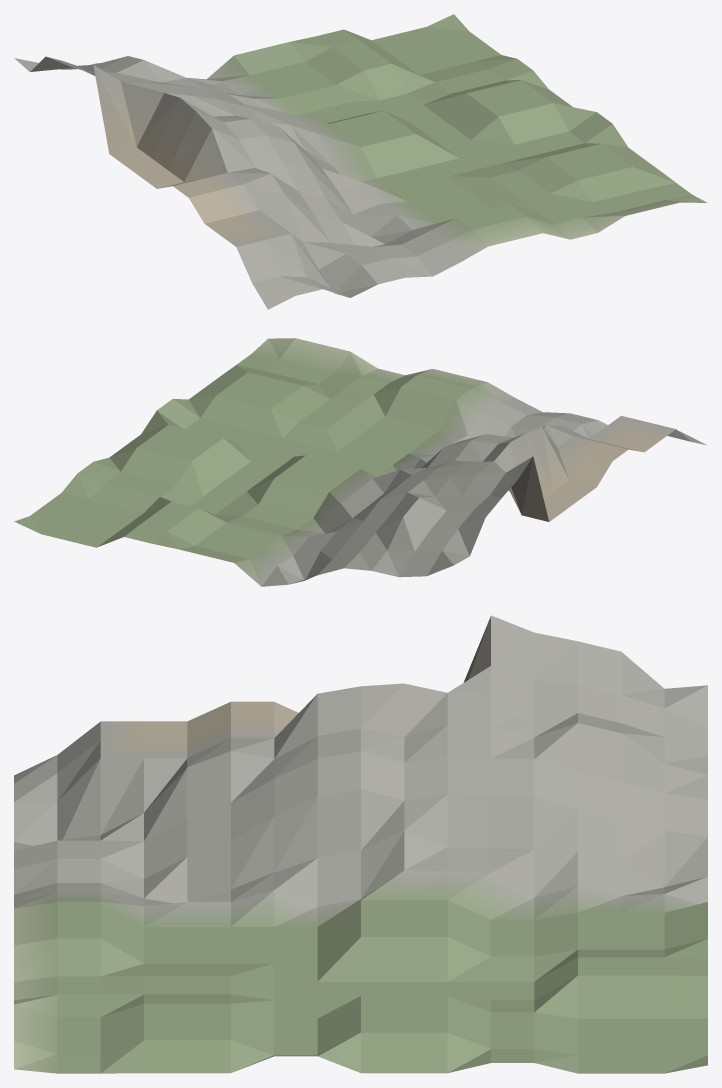
3 renders of one model, top to bottom at view 1: azimuth 30°, elevation 25°; view 2: azimuth 150°, elevation 25°; view 3: azimuth 270°, elevation 25°, orthographic. The views are drawn at different scales.
Bounding box in the file's own units: 32 × 9.21 × 32.
